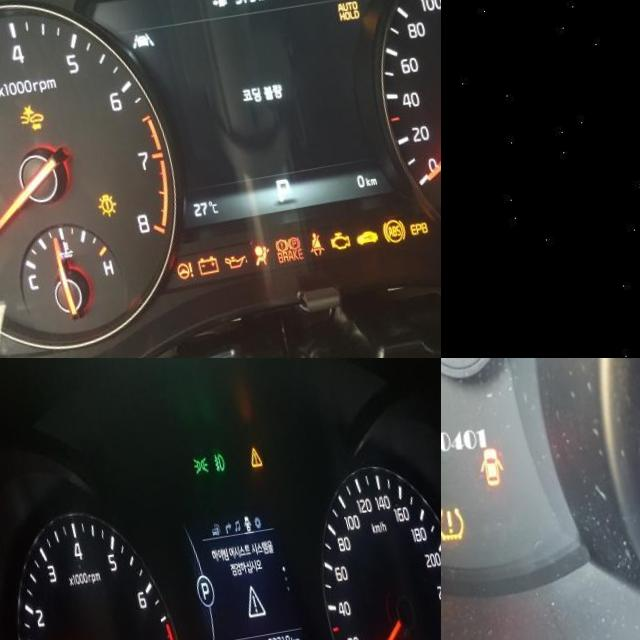Central Warning lamp: (236, 457, 252, 480)
Doors: (456, 457, 490, 501)
FrontFogLight: (201, 461, 215, 484)
Low fuel level: (430, 200, 441, 222)
SideLamp: (181, 465, 198, 486)
